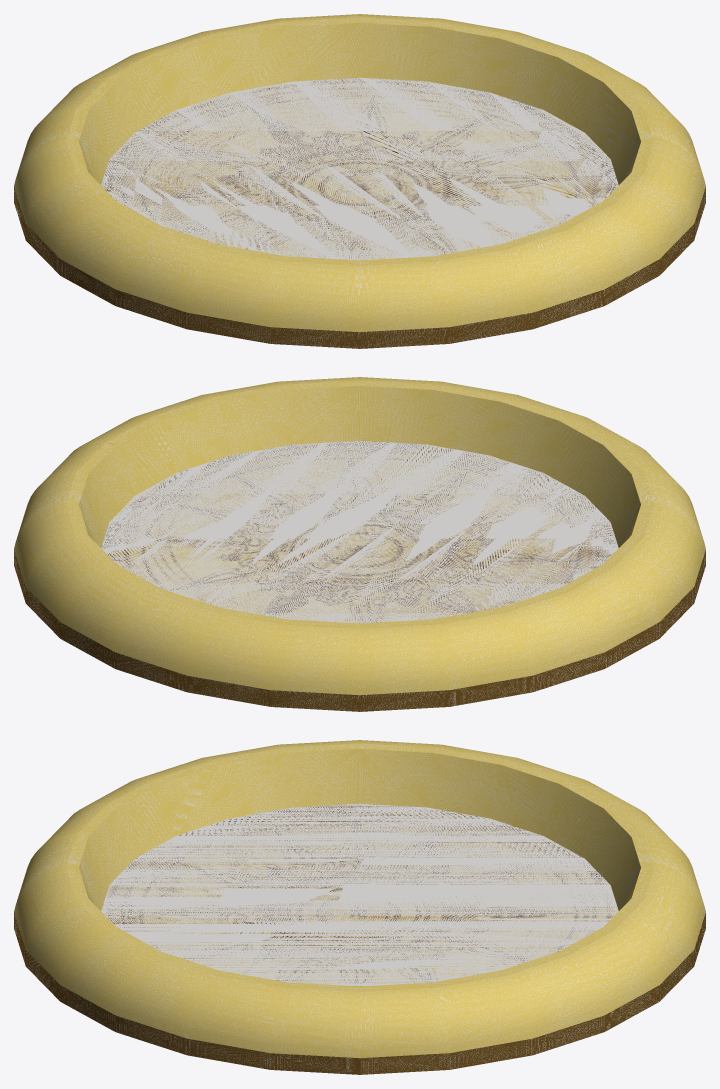
Rendered from compass.dae.
3 views of the same model, one above another, from view 1: azimuth 30°, elevation 25°; view 2: azimuth 150°, elevation 25°; view 3: azimuth 270°, elevation 25° (orthographic).
Visible parts, largest first — view 1: group_0 (×4); view 2: group_0 (×4); view 3: group_0 (×4).
Part boxes in pixels (x1,y1,x2,y2): group_0 (×4): (14, 14, 705, 348); group_0 (×4): (14, 377, 705, 711); group_0 (×4): (14, 740, 705, 1074).
Bounding box in the file's own units: 385 × 384 × 37.63.
